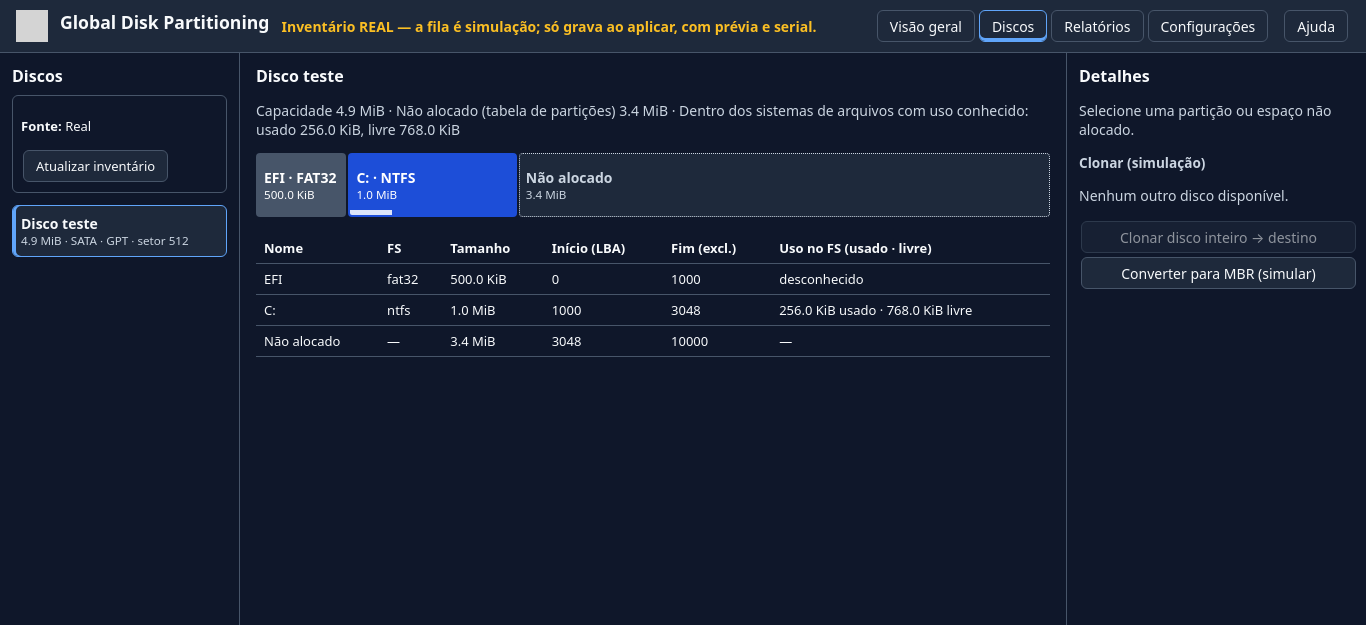
Test case: partição selecionada mostra espaço ocupado e livre; sem dado mostra desconhecido
Click the button labelled "C: · NTFS 1.0 MiB": (433, 185) [348,153,517,217]
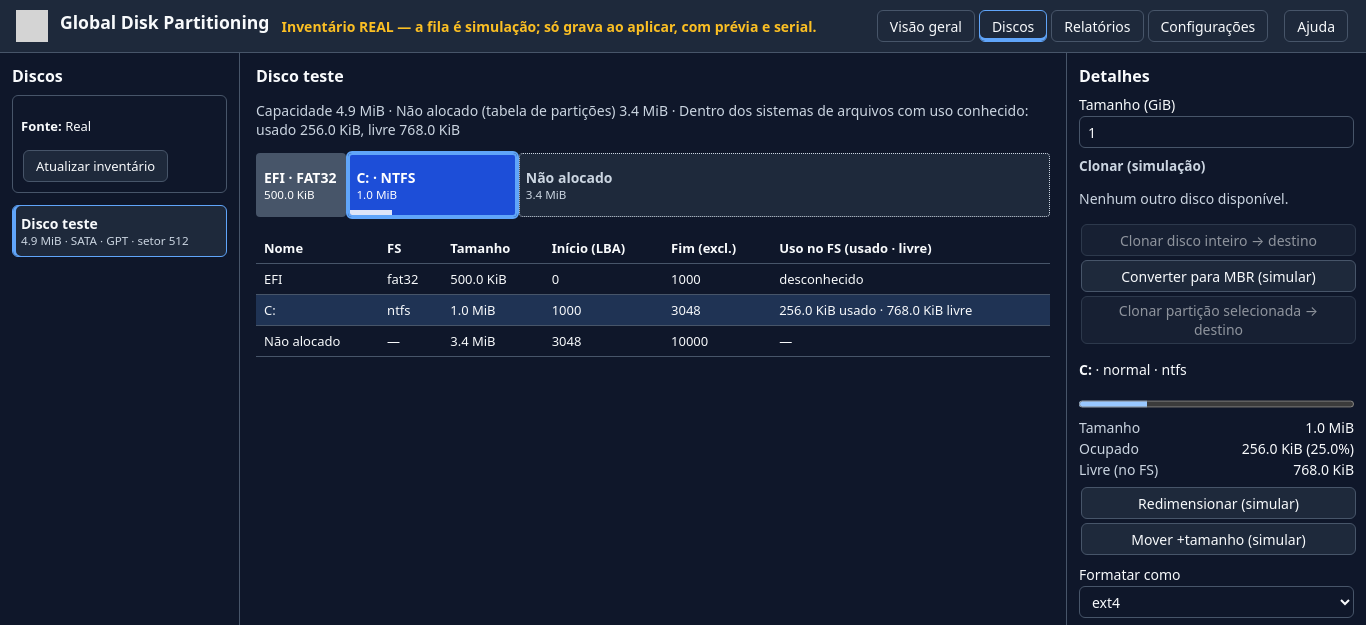
Click the button labelled "EFI · FAT32 500.0 KiB": (301, 185) [256,153,346,217]
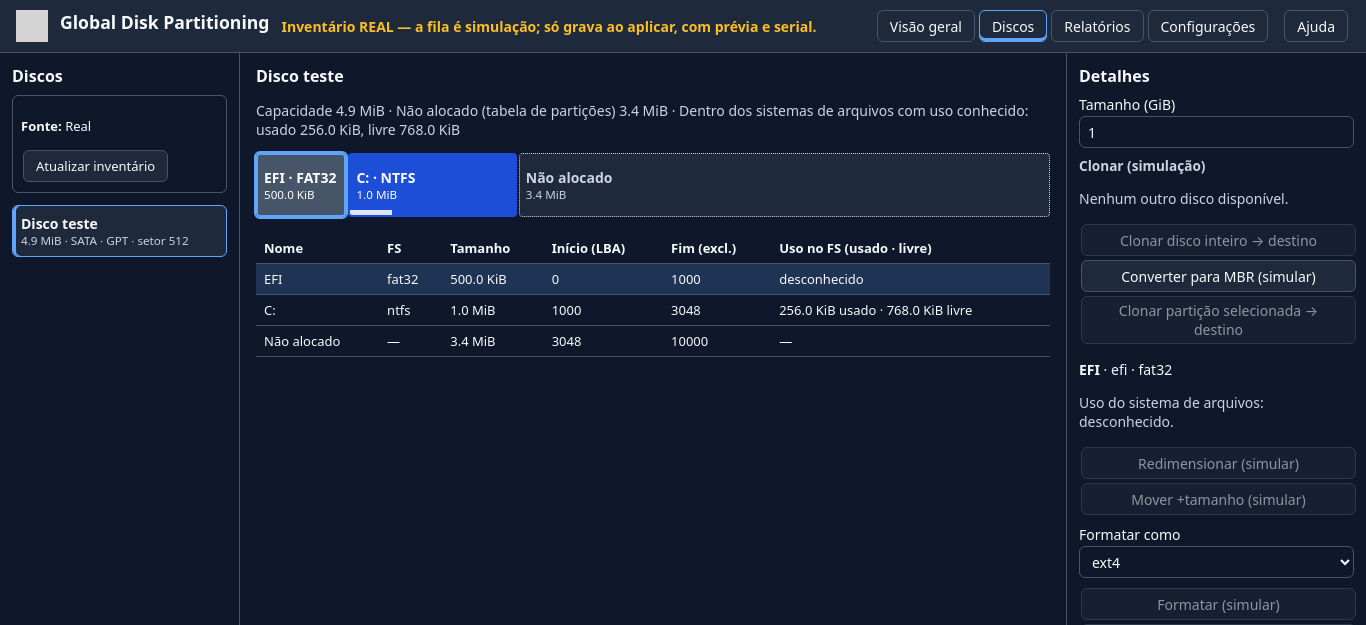
Expected: the text "Uso do sistema de arquivos: desconhecido." is shown, [1079,393,1264,431]
